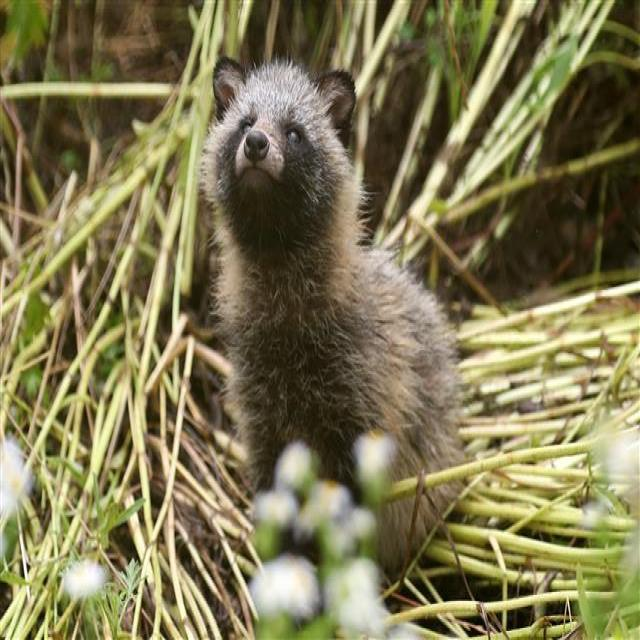racoon: (192, 39, 454, 548)
